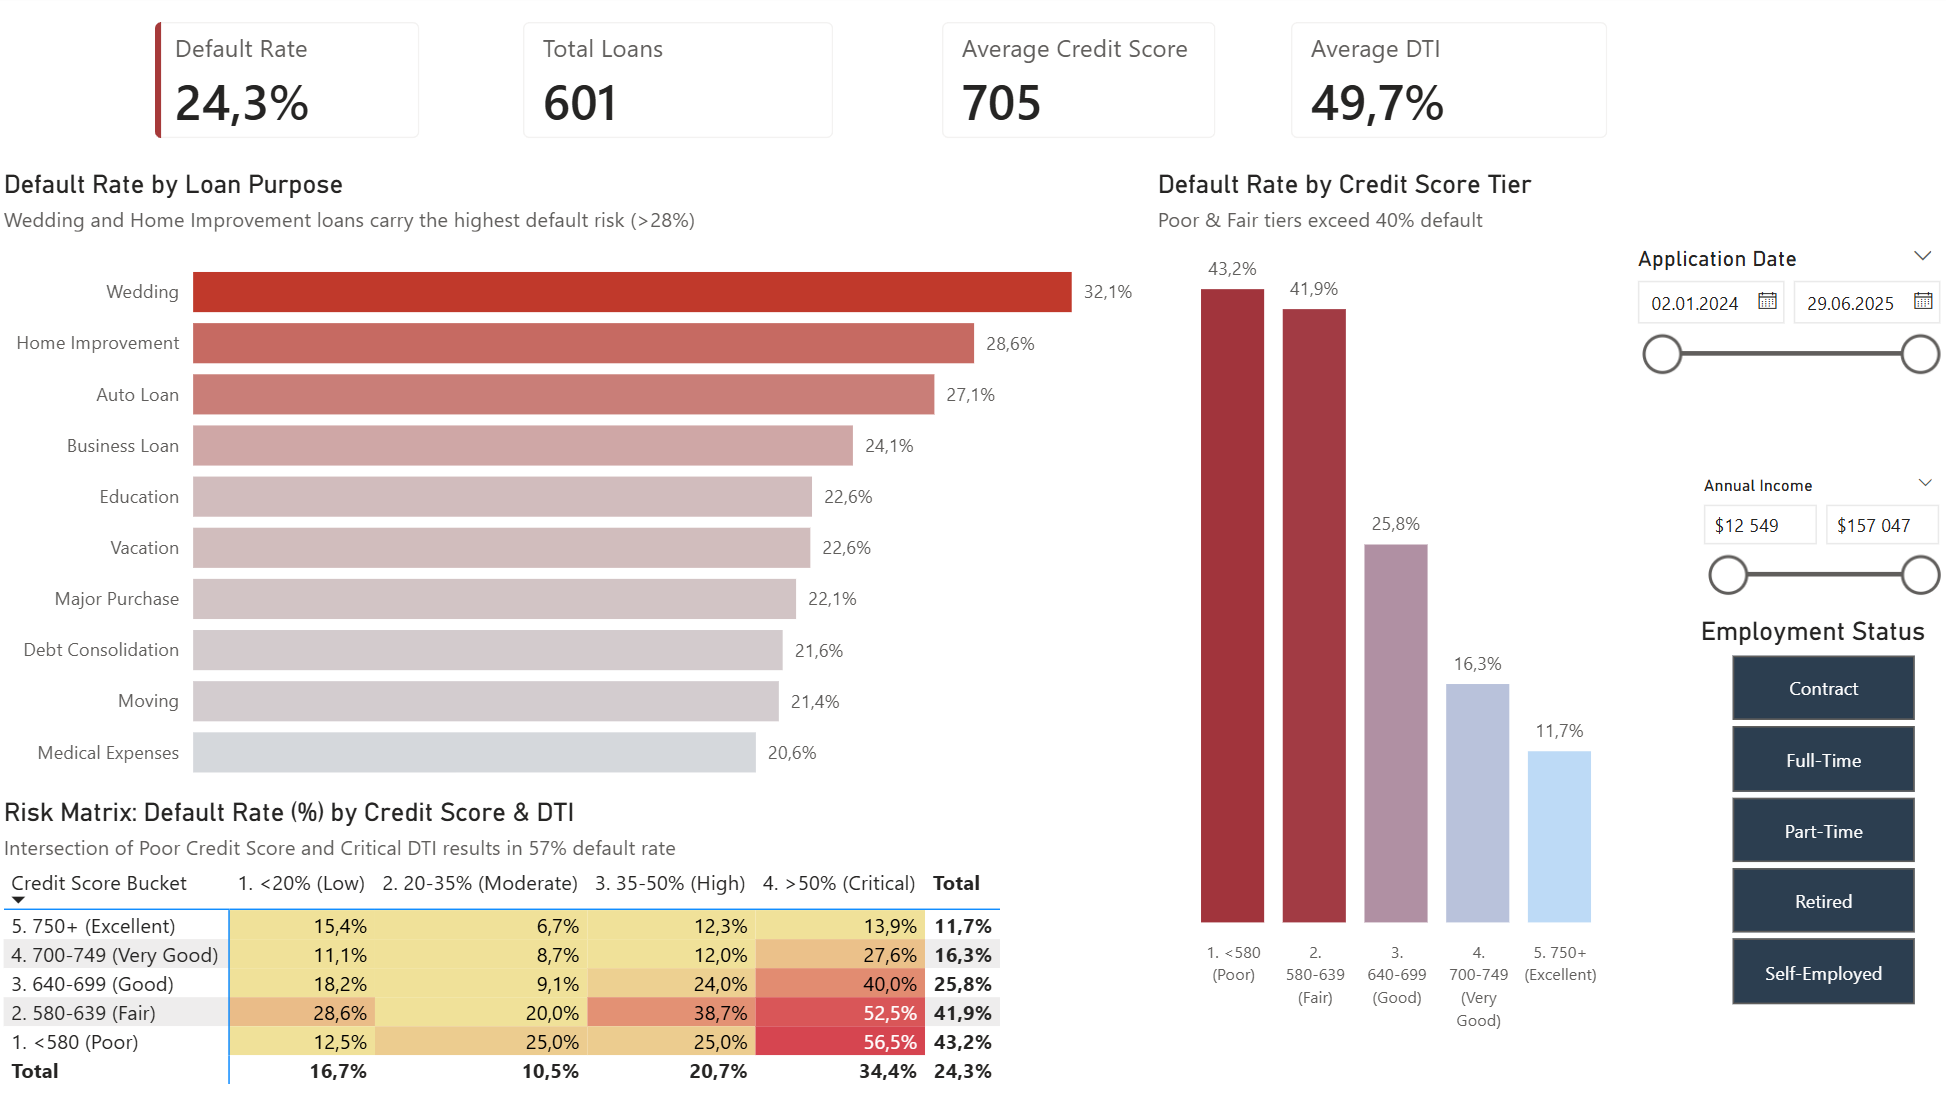

The dashboard page shown, as its layout file describes it:
{"tool":"powerbi","page":{"name":"Loan Default Risk Dashboard","canvas":[1280,720],"ordinal":0},"visuals":[{"type":"clusteredColumnChart","title":"Default Rate by Credit Score Tier","fields":{"Category":["borrower_profiles.Credit Score Bucket"],"Y":["borrower_profiles.Default Rate %"]},"box":[755.4,113.2,316.5,572],"z":0},{"type":"cardVisual","title":"Default Rate","fields":{"Data":["borrower_profiles.Default Rate %"]},"box":[86.7,0,207.9,110.6],"z":1000},{"type":"cardVisual","title":"Total Loans","fields":{"Data":["borrower_profiles.Total Loans"]},"box":[327.7,0,237,110.6],"z":2000},{"type":"cardVisual","title":"Average Credit Score","fields":{"Data":["borrower_profiles.Avg Credit Score"]},"box":[601.8,0,213.8,110.6],"z":3000},{"type":"cardVisual","title":"Average DTI","fields":{"Data":["borrower_profiles.Avg DTI"]},"box":[830.2,0,241.7,110.6],"z":4000},{"type":"clusteredBarChart","title":"Default Rate by Loan Purpose","fields":{"Category":["loan_applications.loan_purpose"],"Y":["borrower_profiles.Default Rate %"]},"box":[0,113.2,749.5,413.8],"z":5000},{"type":"pivotTable","title":"Risk Matrix: Default Rate (%) by Credit Score & DTI","fields":{"Rows":["borrower_profiles.Credit Score Bucket"],"Columns":["loan_applications.DTI Bucket"],"Values":["borrower_profiles.Default Rate %"]},"box":[0,524.4,755.4,196],"z":6000},{"type":"slicer","title":"Application Date","fields":{"Values":["loan_applications.application_date"]},"box":[1061.3,158.2,218.5,151],"z":7000},{"type":"slicer","fields":{"Values":["borrower_profiles.annual_income"]},"box":[1104.3,309.2,175.4,91.4],"z":8000},{"type":"slicer","title":"Employment Status","fields":{"Values":["borrower_profiles.employment_status"]},"box":[1110.3,405.8,169.5,260.9],"z":9000}]}

Visuals, with their boxes in screenshot pixels (x1, y1, x2, y2), scaled from the page's 1280x720 canvas onto the 1946x1095 screenshot:
"Default Rate by Credit Score Tier" clusteredColumnChart: <region>1148, 172, 1630, 1042</region>
"Default Rate" cardVisual: <region>132, 0, 448, 168</region>
"Total Loans" cardVisual: <region>498, 0, 859, 168</region>
"Average Credit Score" cardVisual: <region>915, 0, 1240, 168</region>
"Average DTI" cardVisual: <region>1262, 0, 1630, 168</region>
"Default Rate by Loan Purpose" clusteredBarChart: <region>0, 172, 1139, 801</region>
"Risk Matrix: Default Rate (%) by Credit Score & DTI" pivotTable: <region>0, 798, 1148, 1094</region>
"Application Date" slicer: <region>1614, 241, 1945, 470</region>
slicer - borrower_profiles.annual_income: <region>1679, 470, 1945, 609</region>
"Employment Status" slicer: <region>1688, 617, 1945, 1014</region>
